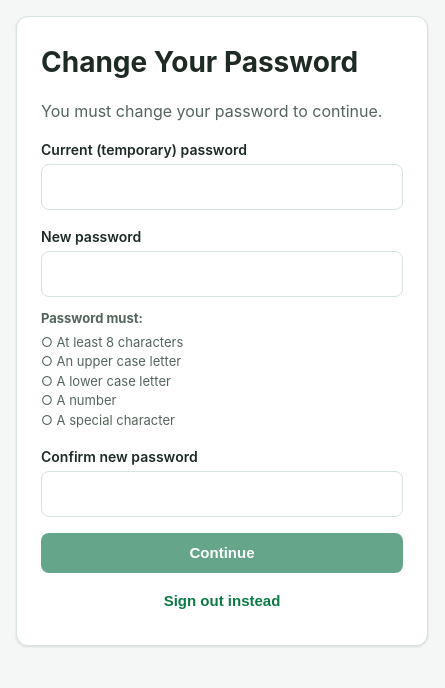
ChangePassword › blocks the submit while the confirmation does not match
Type "TokTick!2026" into the password field labelled "Current (temporary) password".
click(222, 187); type("TokTick!2026")  # box [41,164,403,210]
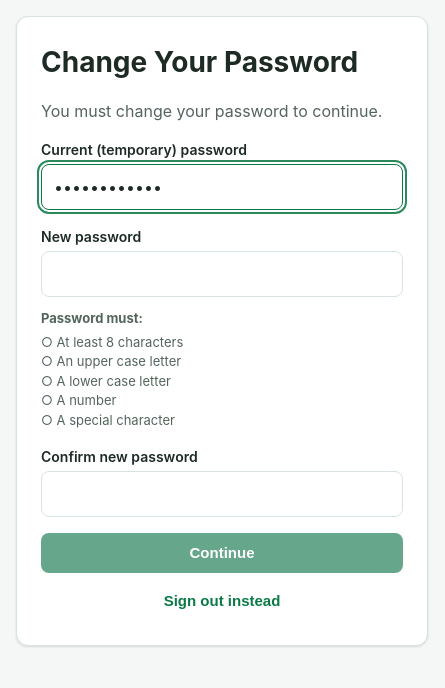
Type "Abcdefg1!" into the password field labelled "New password".
click(222, 274); type("Abcdefg1!")  # box [41,251,403,297]
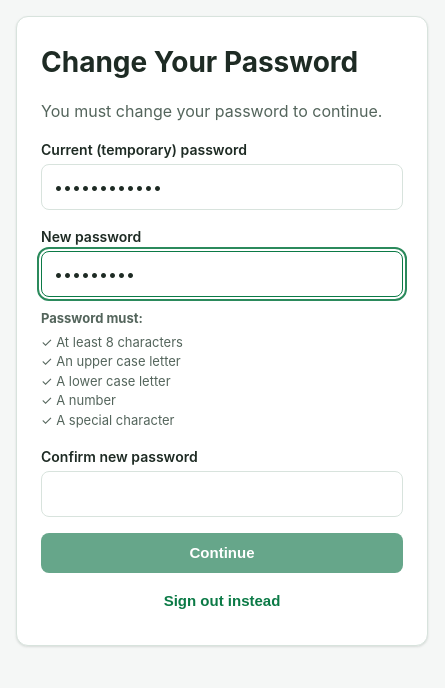
Type "Abcdefg1?" into the password field labelled "Confirm new password".
click(222, 494); type("Abcdefg1?")  # box [41,471,403,517]
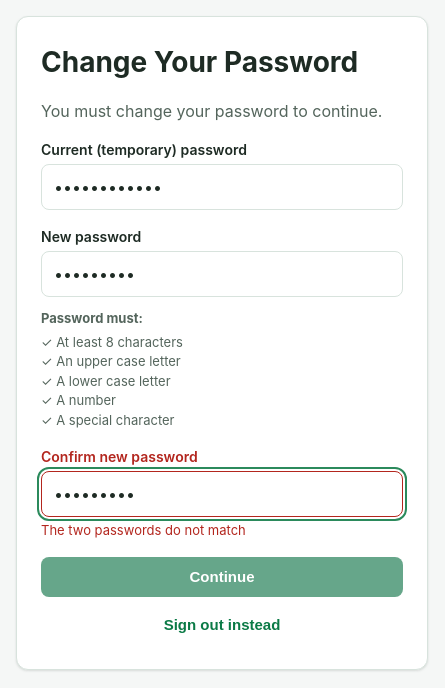
Expected: the button "Continue" is disabled, [41,556,403,596]
Expected: the text "The two passwords do not match" is shown, [41,522,246,538]
